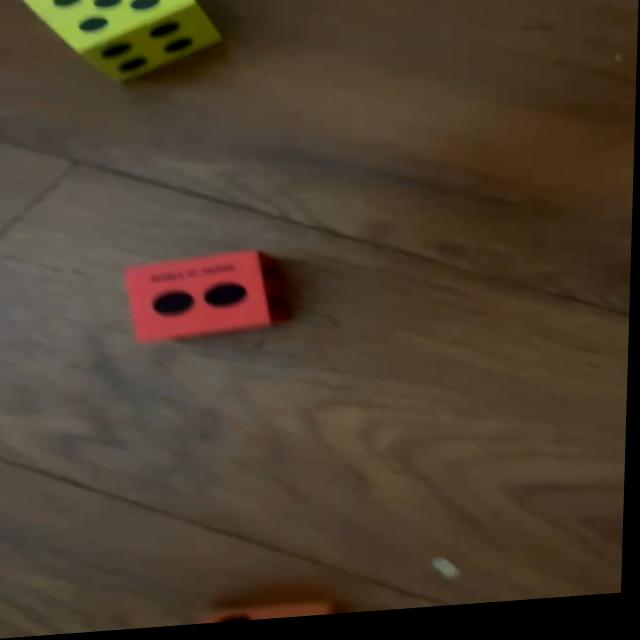red_block: (126, 254, 280, 347)
